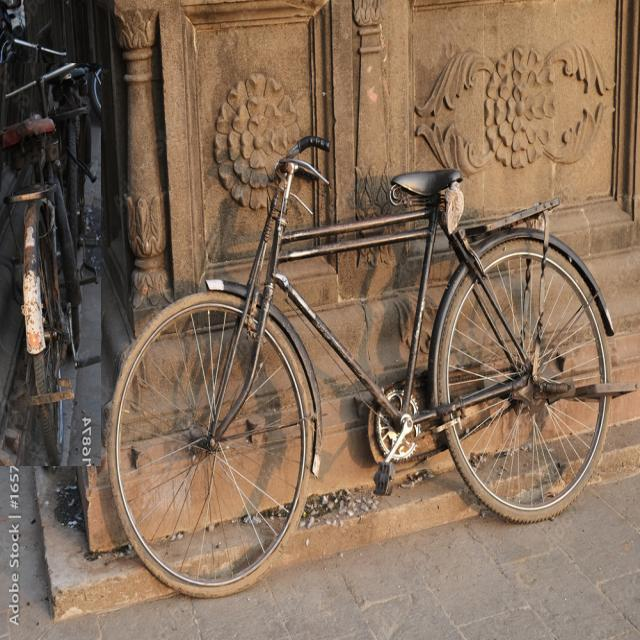bicycle: (108, 137, 635, 595), (0, 63, 101, 466)
